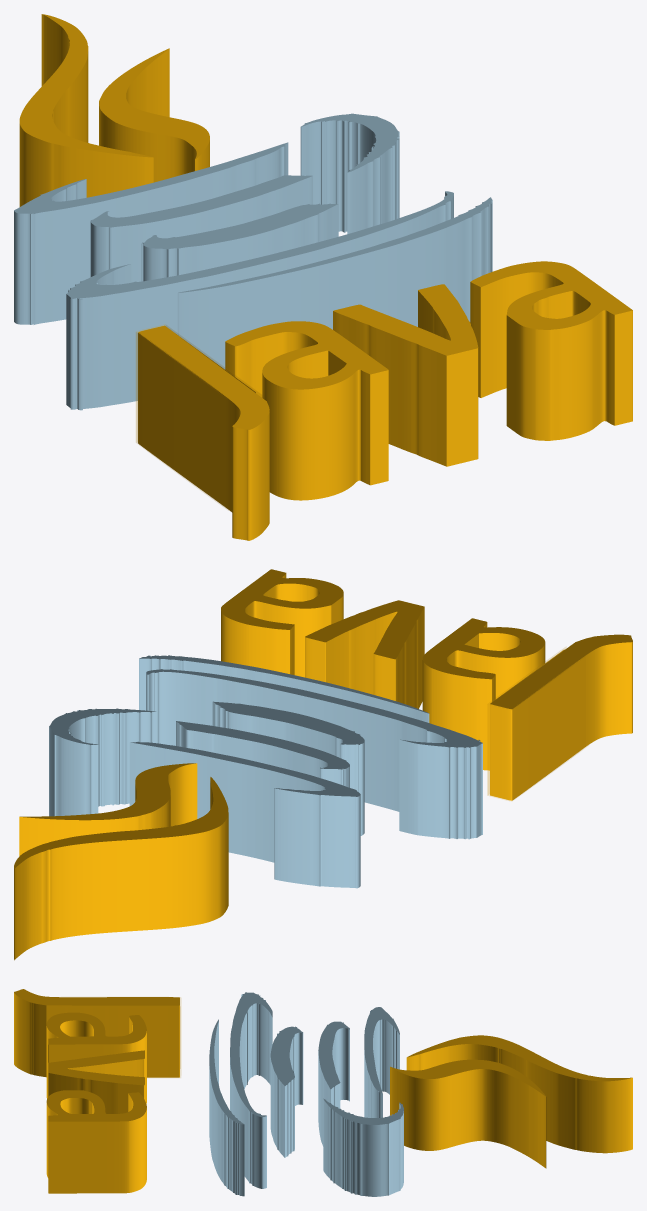
The model's file is java.glb.
The picture shows the model from 3 angles, top to bottom: view 1: azimuth 30°, elevation 25°; view 2: azimuth 150°, elevation 25°; view 3: azimuth 270°, elevation 25°; orthographic projection. The views are drawn at different scales.
Visible parts, largest first — view 1: Node2, Node1, Node11, Node7, Node4, Node10, Node3, Node13, Node14, Node12, Node9, Node6 (+2 smaller); view 2: Node3, Node7, Node10, Node1, Node4, Node13, Node2, Node12, Node14, Node6, Node5, Node8 (+2 smaller); view 3: Node6, Node3, Node2, Node12, Node7, Node4, Node5, Node14, Node1, Node13, Node8, Node11 (+2 smaller).
Boxes of the visible parts, <box> form: Node2: <box>470,261,632,440</box>; Node1: <box>225,321,388,500</box>; Node11: <box>177,197,492,369</box>; Node7: <box>66,191,453,410</box>; Node4: <box>333,284,478,466</box>; Node10: <box>14,142,288,324</box>; Node3: <box>19,14,153,206</box>; Node13: <box>136,325,261,510</box>; Node14: <box>138,325,255,508</box>; Node12: <box>300,113,399,233</box>; Node9: <box>90,175,312,282</box>; Node6: <box>99,48,209,182</box>; Node3: <box>14,777,228,960</box>; Node7: <box>146,669,482,839</box>; Node10: <box>129,741,360,888</box>; Node1: <box>422,618,545,770</box>; Node4: <box>305,600,424,708</box>; Node13: <box>487,647,588,800</box>; Node2: <box>221,569,343,677</box>; Node12: <box>49,708,156,816</box>; Node14: <box>490,649,585,800</box>; Node6: <box>19,763,197,855</box>; Node5: <box>491,634,632,746</box>; Node8: <box>212,701,364,835</box>; Node6: <box>390,1059,546,1168</box>; Node3: <box>406,1035,632,1153</box>; Node2: <box>46,1090,146,1193</box>; Node12: <box>323,1098,403,1196</box>; Node7: <box>230,992,272,1188</box>; Node4: <box>48,1050,144,1113</box>; Node5: <box>14,989,179,1077</box>; Node14: <box>62,997,179,1077</box>; Node1: <box>46,1012,146,1104</box>; Node13: <box>57,997,180,1077</box>; Node8: <box>270,1026,303,1157</box>; Node11: <box>209,1019,244,1196</box>.
Bounding box in the file's own units: 2.03 × 0.5 × 3.9.
